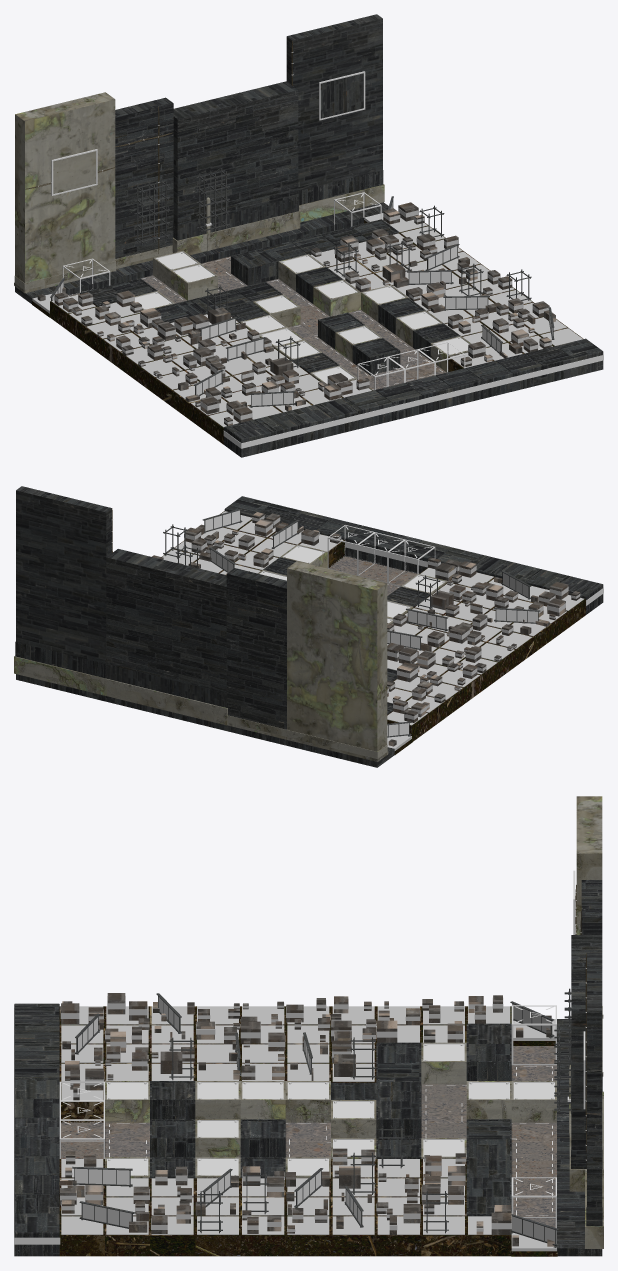
Rendered from level 3.fbx.
The picture shows the model from 3 angles, top to bottom: view 1: azimuth 30°, elevation 25°; view 2: azimuth 150°, elevation 25°; view 3: azimuth 270°, elevation 25°; orthographic projection. The views are drawn at different scales.
Parts seen in each view (by area): view 1: Obj_001169, Obj_001167, Obj_001166, Obj_000725, Obj_001170, Obj_000692, Obj_001165, Obj_001175, Obj_001171, Obj_000002, Obj_001173, Obj_000001 (+3 smaller); view 2: Obj_001169, Obj_001166, Obj_001167, Obj_001170, Obj_000725, Obj_000692, Obj_001175, Obj_001171, Obj_001173, Obj_001168, Obj_001172, Obj_001165 (+13 smaller); view 3: Obj_000725, Obj_001166, Obj_000692, Obj_001167, Obj_001169, Obj_001170, Obj_000628, Obj_000359, Obj_000311, Obj_000625, Obj_000391, Obj_000616 (+83 smaller).
Part boxes in pixels (bbox=[...]): Obj_001169: bbox=[15, 92, 115, 282]; Obj_001167: bbox=[173, 81, 298, 226]; Obj_001166: bbox=[286, 14, 382, 190]; Obj_000725: bbox=[224, 338, 603, 457]; Obj_001170: bbox=[115, 97, 173, 258]; Obj_000692: bbox=[15, 202, 388, 303]; Obj_001165: bbox=[223, 355, 603, 448]; Obj_001175: bbox=[172, 210, 300, 255]; Obj_001171: bbox=[173, 196, 298, 240]; Obj_000002: bbox=[320, 73, 363, 118]; Obj_001173: bbox=[299, 184, 384, 222]; Obj_000001: bbox=[53, 151, 95, 193]; Obj_001169: bbox=[287, 561, 387, 751]; Obj_001166: bbox=[16, 486, 111, 663]; Obj_001167: bbox=[106, 549, 226, 693]; Obj_001170: bbox=[226, 568, 286, 729]; Obj_000725: bbox=[224, 496, 603, 614]; Obj_000692: bbox=[16, 674, 394, 767]; Obj_001175: bbox=[104, 678, 227, 725]; Obj_001171: bbox=[105, 664, 226, 707]; Obj_001173: bbox=[14, 656, 106, 695]; Obj_001168: bbox=[15, 641, 106, 678]; Obj_001172: bbox=[287, 730, 387, 758]; Obj_001165: bbox=[345, 542, 603, 605]; Obj_000725: bbox=[14, 1003, 59, 1256]; Obj_001166: bbox=[587, 953, 602, 1207]; Obj_000692: bbox=[557, 1019, 602, 1256]; Obj_001167: bbox=[571, 935, 602, 1149]; Obj_001169: bbox=[576, 796, 602, 934]; Obj_001170: bbox=[581, 880, 602, 934]; Obj_000628: bbox=[331, 1216, 376, 1256]; Obj_000359: bbox=[421, 1061, 466, 1084]; Obj_000311: bbox=[285, 1099, 330, 1122]; Obj_000625: bbox=[285, 1216, 330, 1256]; Obj_000391: bbox=[511, 1099, 556, 1122]; Obj_000616: bbox=[150, 1216, 195, 1256].
Size of the model in its own units: 1206 by 600 by 1305.
